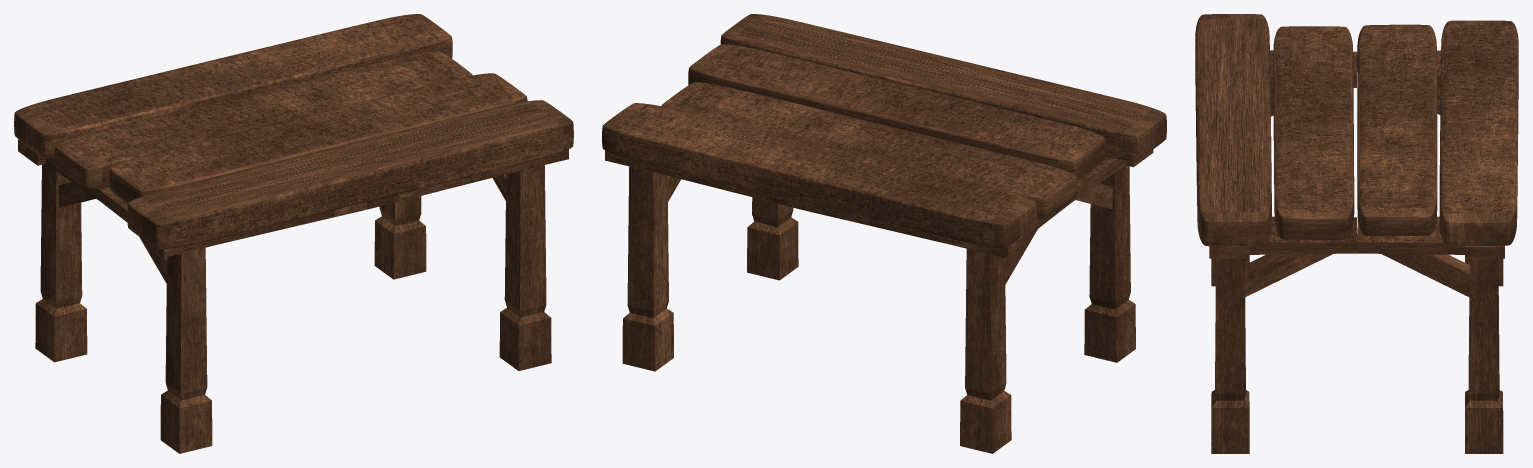
Rendered from table.fbx.
3 views of the same model, side by side, from view 1: azimuth 30°, elevation 25°; view 2: azimuth 150°, elevation 25°; view 3: azimuth 270°, elevation 25° (orthographic).
Visible parts, largest first — view 1: Cube.003, Cube, Cube.006; view 2: Cube.003, Cube, Cube.006; view 3: Cube.003, Cube, Cube.006.
Part boxes in pixels (bbox=[...]): Cube.003: bbox=[14, 14, 573, 249]; Cube: bbox=[35, 164, 551, 453]; Cube.006: bbox=[18, 139, 568, 257]; Cube.003: bbox=[602, 14, 1166, 248]; Cube: bbox=[622, 165, 1135, 453]; Cube.006: bbox=[605, 150, 1153, 258]; Cube.003: bbox=[1195, 14, 1518, 246]; Cube: bbox=[1211, 88, 1503, 453]; Cube.006: bbox=[1209, 50, 1504, 258].
Size of the model in its own units: 642 by 353 by 422.
